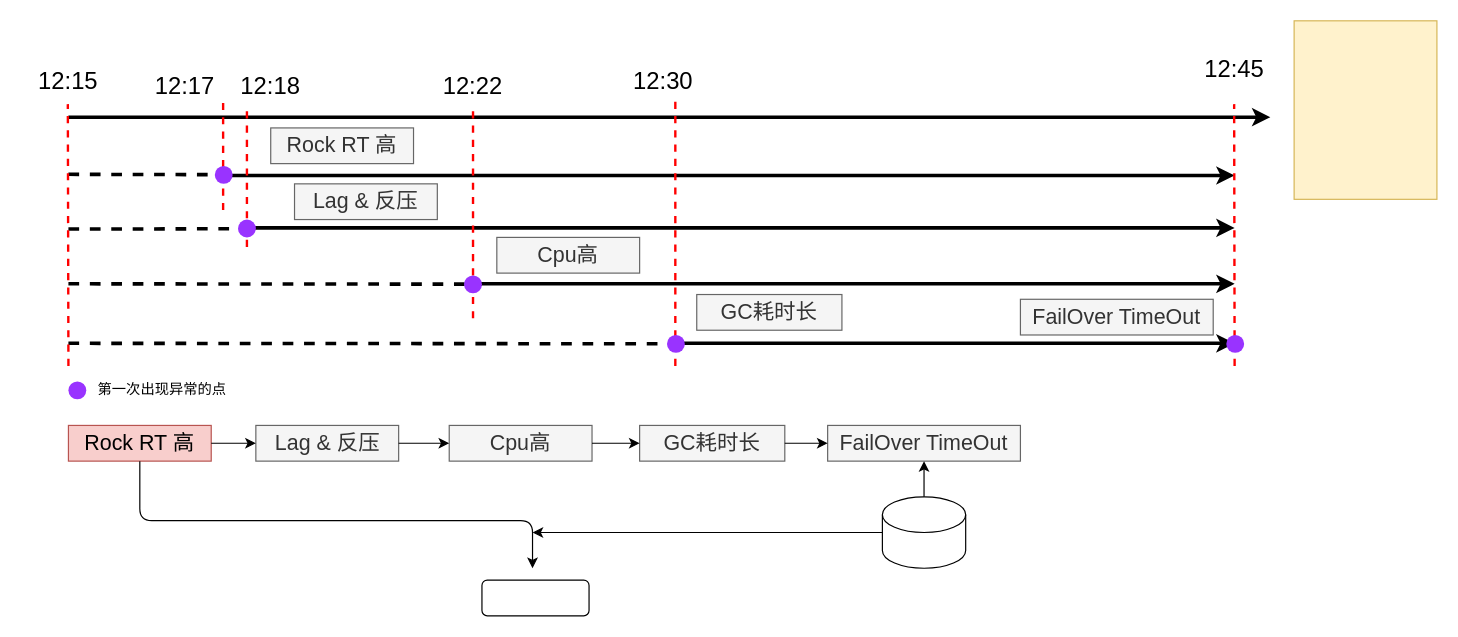
Some shapes in this 1458 by 637 pixel diagram are drawn without their labels. The shapes that lost their labels are listed below. From the top down, each one's centre as x and y in pixels, then its label:
At point 1365,109: "1. Lag 2. 反压 3. CPU高 4. GC耗时 5. FailOver 6. Rocks RT".
At point 923,532: "词库".
At point 535,597: "输出诊断结果".
